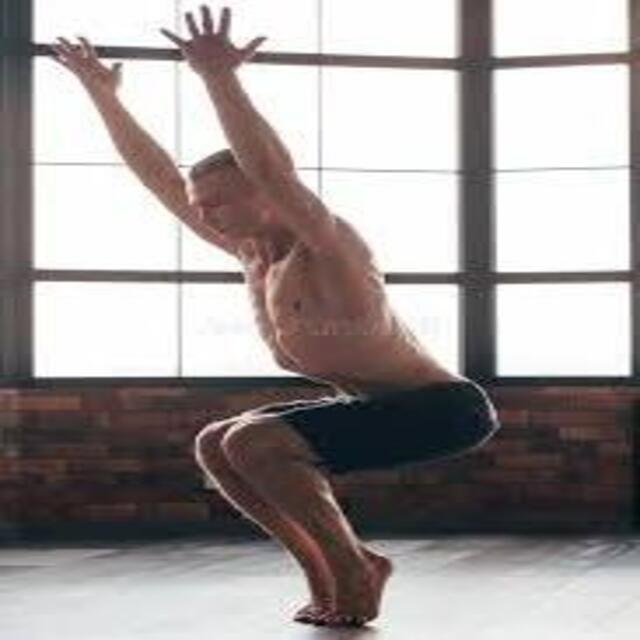Squat_Pose: (55, 6, 501, 625)
